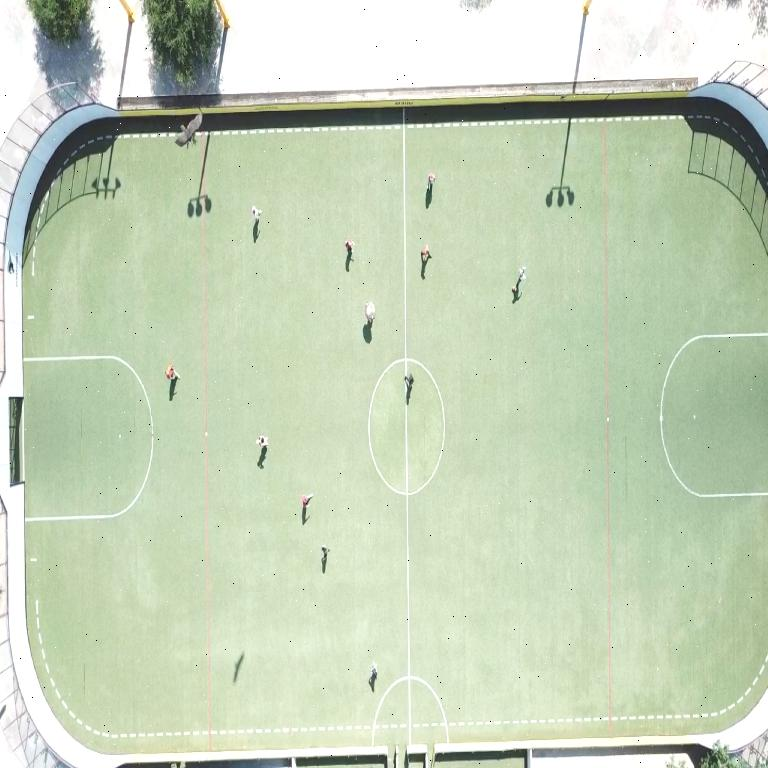AC: (24, 356, 152, 522), (659, 332, 767, 499)
B: (511, 285, 515, 293)
MC: (406, 400, 411, 743)
P: (364, 302, 374, 325), (165, 364, 178, 380), (403, 373, 413, 390), (301, 494, 312, 509), (517, 266, 526, 284), (251, 206, 260, 223), (421, 245, 429, 264), (370, 661, 378, 680), (345, 238, 353, 255), (427, 172, 434, 191), (257, 436, 267, 449), (321, 546, 328, 564)
